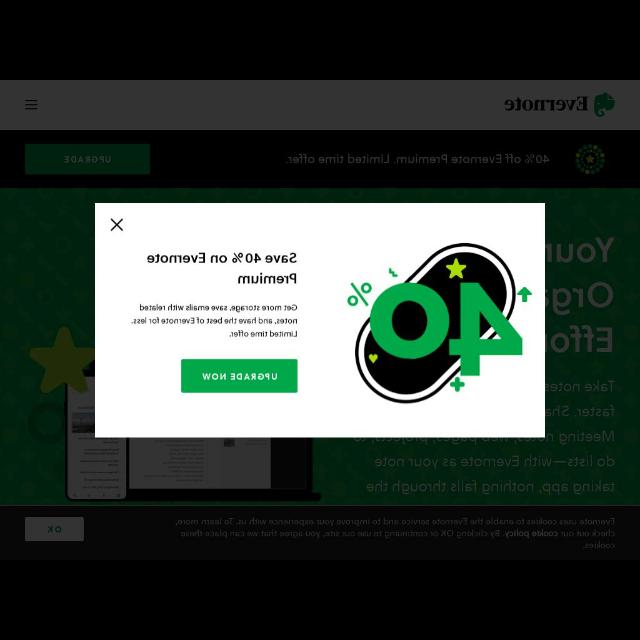backgroundimage: (1, 189, 640, 505)
icon: (110, 217, 124, 233), (24, 98, 40, 112)
image: (345, 242, 531, 406), (502, 90, 616, 118), (574, 144, 606, 176)
text: (174, 516, 616, 550), (552, 236, 616, 354), (130, 303, 298, 339), (146, 250, 298, 286), (365, 478, 615, 496), (374, 455, 616, 471), (284, 152, 550, 166), (544, 429, 616, 445), (546, 378, 616, 394), (544, 404, 616, 418)
textbutton: (25, 145, 149, 175), (182, 360, 296, 392), (25, 516, 83, 542)
